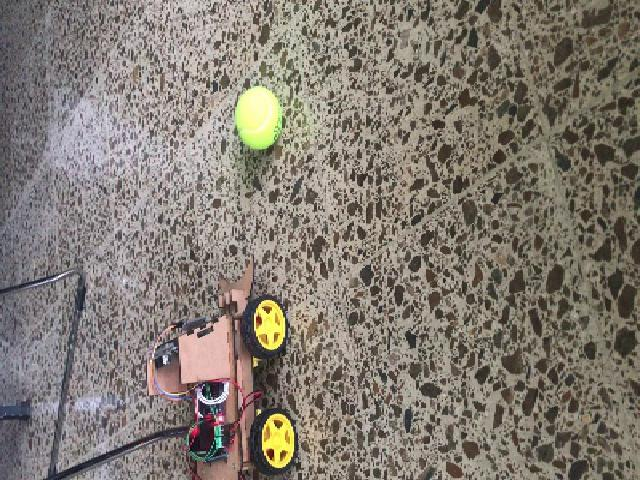Ball: (234, 86, 282, 151)
Robot: (144, 253, 298, 476)
